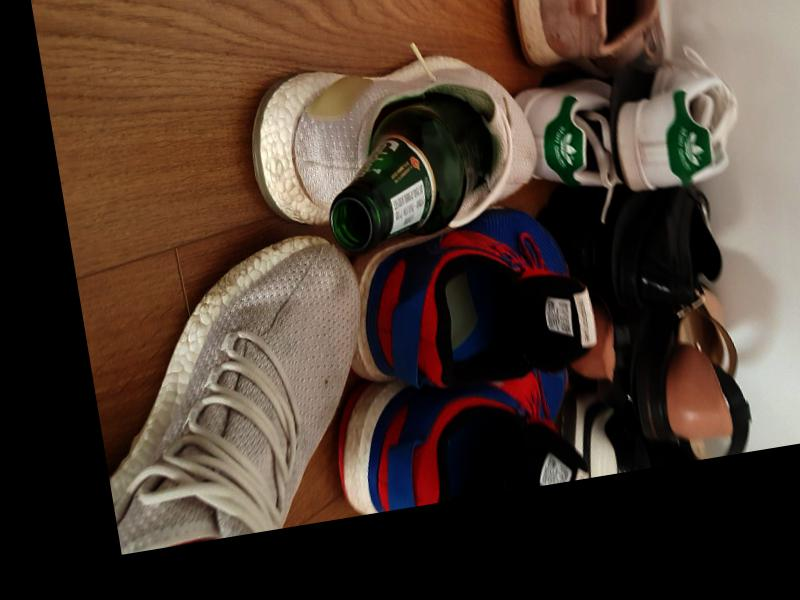Beer: (313, 90, 502, 254)
